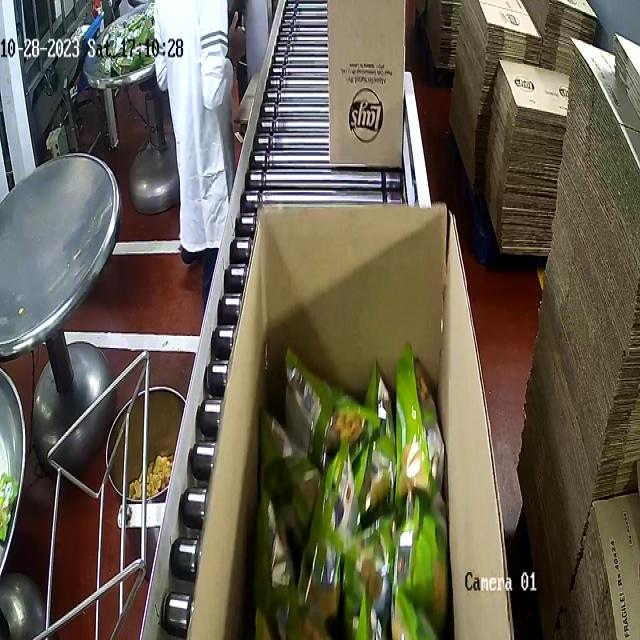YOGURT_HERB: (239, 336, 463, 640)
